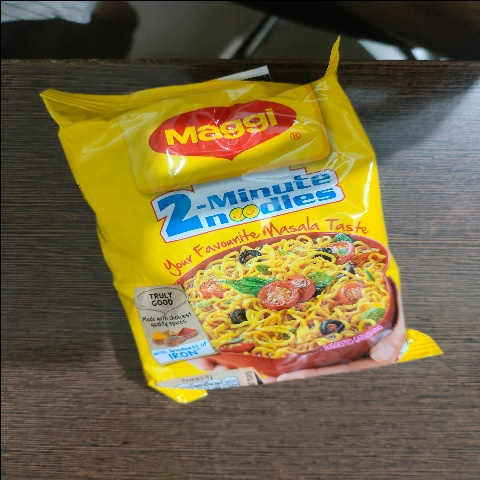maggi: (33, 34, 429, 420)
